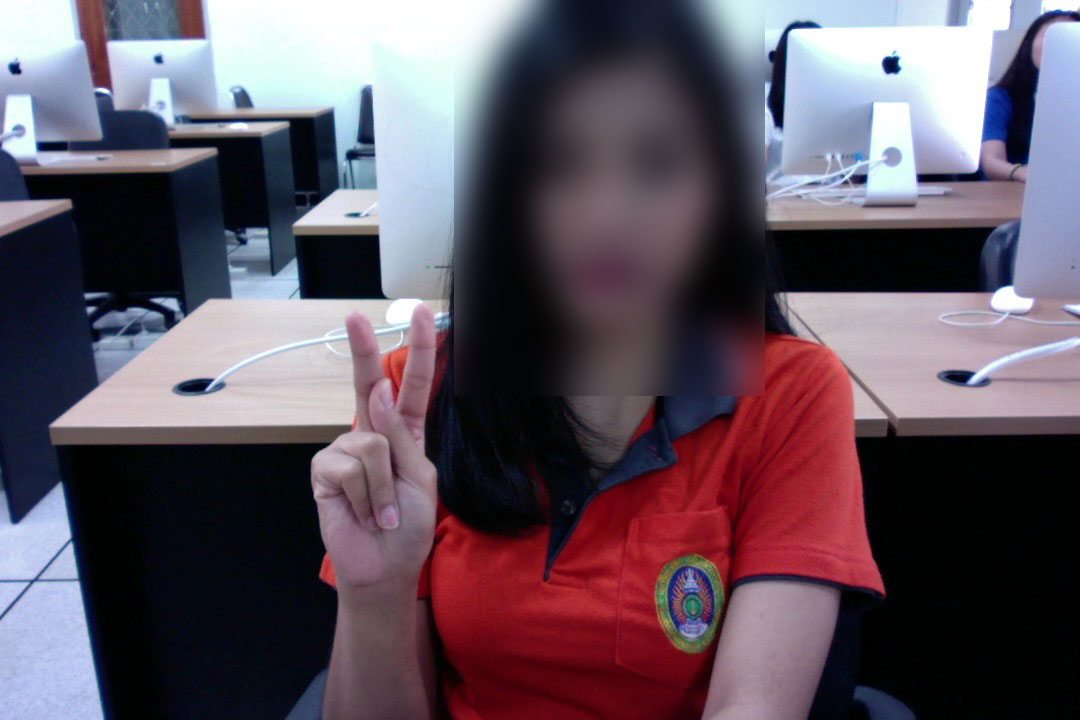ko: (296, 281, 466, 597)
